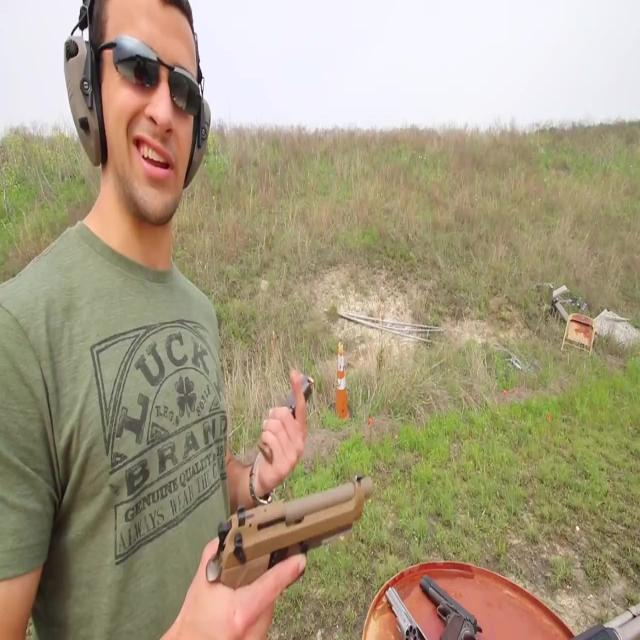Weapon: (199, 329, 636, 640)
